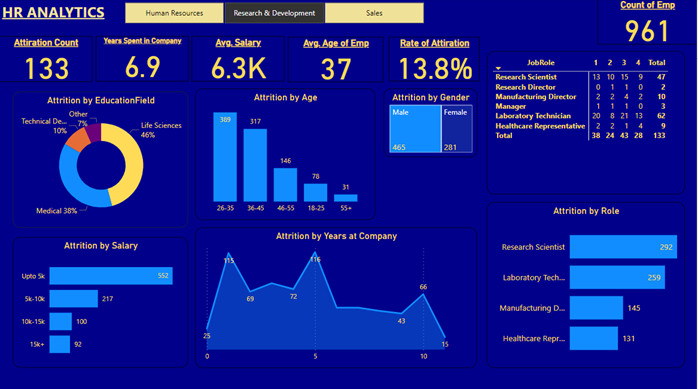

What the dashboard file says about the page in this screenshot:
{"tool":"powerbi","page":{"name":"Page 1","canvas":[1280,720],"ordinal":0},"visuals":[{"type":"card","title":"Count of Emp","fields":{"Values":["CountNonNull(HR_Analytics.EmpID)"]},"box":[1097.2,0,183.1,84.3],"z":0},{"type":"card","title":"Attiration Count","fields":{"Values":["Sum(HR_Analytics.AttirationCount)"]},"box":[0,68.3,170,84.3],"z":1},{"type":"card","title":"Rate of Attiration","fields":{"Values":["HR_Analytics.AttritionRate"]},"box":[715,70,166.7,81.7],"z":2},{"type":"card","title":"Avg. Age of Emp","fields":{"Values":["Avg(HR_Analytics.Age)"]},"box":[530,70,175,83.3],"z":3},{"type":"card","title":"Avg. Salary","fields":{"Values":["Avg(HR_Analytics.MonthlyIncome)"]},"box":[353.3,68.3,170,83.3],"z":4},{"type":"card","title":"Years Spent in Company","fields":{"Values":["Avg(HR_Analytics.YearsAtCompany)"]},"box":[176.7,68.3,170,83.3],"z":5},{"type":"donutChart","title":"Attrition by EducationField","fields":{"Category":["HR_Analytics.EducationField"],"Y":["CountNonNull(HR_Analytics.Attrition)"]},"box":[25,170,321.7,250],"z":6},{"type":"columnChart","title":"Attrition by Age","fields":{"Category":["HR_Analytics.AgeGroup"],"Y":["CountNonNull(HR_Analytics.Attrition)"]},"box":[360,165,330,241.7],"z":7},{"type":"pivotTable","fields":{"Rows":["HR_Analytics.JobRole"],"Columns":["HR_Analytics.JobSatisfaction"],"Values":["Sum(HR_Analytics.AttirationCount)"]},"box":[895,96.7,363.3,263.3],"z":8},{"type":"barChart","title":"Attrition by Salary","fields":{"Category":["HR_Analytics.SalarySlab"],"Y":["CountNonNull(HR_Analytics.Attrition)"]},"box":[25,438.3,321.7,240],"z":9},{"type":"barChart","title":"Attrition by Role","fields":{"Y":["CountNonNull(HR_Analytics.Attrition)"],"Category":["HR_Analytics.JobRole"]},"box":[895,373.3,363.3,305],"z":10},{"type":"areaChart","title":"Attrition by Years at Company","fields":{"Category":["HR_Analytics.YearsAtCompany"],"Y":["CountNonNull(HR_Analytics.Attrition)"]},"box":[360,420,516.7,258.3],"z":11},{"type":"treemap","title":"Attrition by Gender","fields":{"Group":["HR_Analytics.Gender"],"Values":["CountNonNull(HR_Analytics.Attrition)"]},"box":[705,165,171.7,126.7],"z":12},{"type":"slicer","fields":{"Values":["HR_Analytics.Department"]},"box":[205,0,598.3,51.7],"z":13},{"type":"textbox","box":[0,0,240,56.7],"z":14}]}

Visuals, with their boxes in screenshot pixels (x1, y1, x2, y2), scaled from the page's 1280x720 canvas onto the 698x389 screenshot:
"Count of Emp" card: box(598, 0, 697, 46)
"Attiration Count" card: box(0, 37, 93, 82)
"Rate of Attiration" card: box(390, 38, 481, 82)
"Avg. Age of Emp" card: box(289, 38, 384, 83)
"Avg. Salary" card: box(193, 37, 285, 82)
"Years Spent in Company" card: box(96, 37, 189, 82)
"Attrition by EducationField" donutChart: box(14, 92, 189, 227)
"Attrition by Age" columnChart: box(196, 89, 376, 220)
pivotTable - HR_Analytics.JobRole x HR_Analytics.JobSatisfaction: box(488, 52, 686, 194)
"Attrition by Salary" barChart: box(14, 237, 189, 366)
"Attrition by Role" barChart: box(488, 202, 686, 366)
"Attrition by Years at Company" areaChart: box(196, 227, 478, 366)
"Attrition by Gender" treemap: box(384, 89, 478, 158)
slicer - HR_Analytics.Department: box(112, 0, 438, 28)
textbox: box(0, 0, 131, 31)
